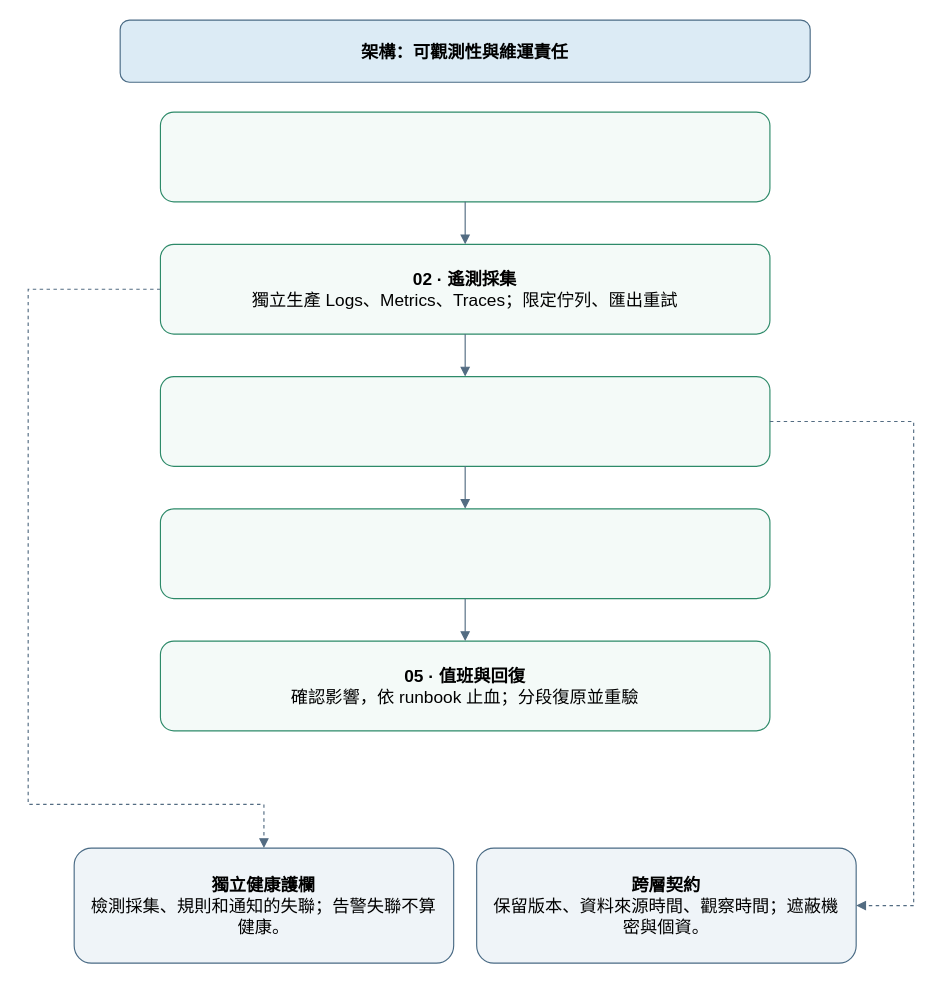
Some shapes in this 943 by 983 pixel diagram are drawn without their labels. The centre of each missing label's shape, as x and y in pixels:
01 · 服務與外側探測 API／工作者／資料閘道插樁；外側探測驗證真實結果: [464,156]
03 · 儲存與查詢 各訊號進對應後端；用服務、版本、時間和關聯鍵串讀: [464,420]
04 · 判斷與通知 用合格及壞事件算 SLI；規則分級、分組、路由與升級: [464,553]
